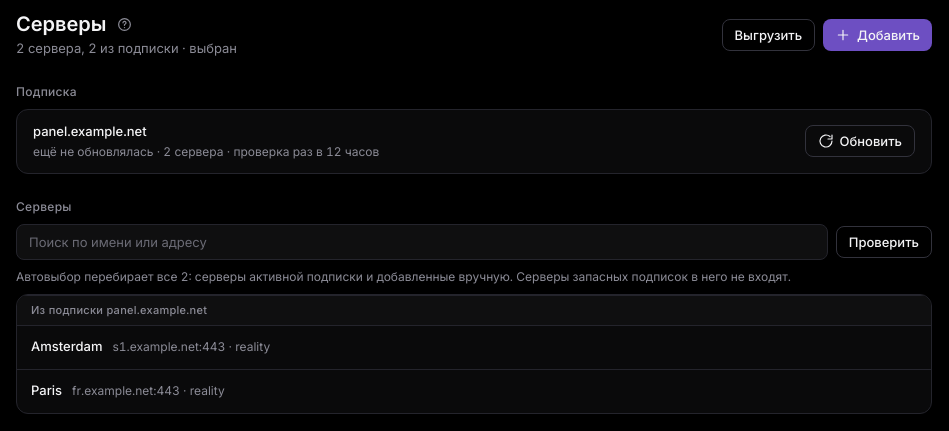
Test: серверы: список › поиск фильтрует по имени и по адресу
The image size is (949, 431).
Type "fr.exa" into the search field with test id "poisk" at (422, 242), box x1=16 y1=224 x2=828 y2=260
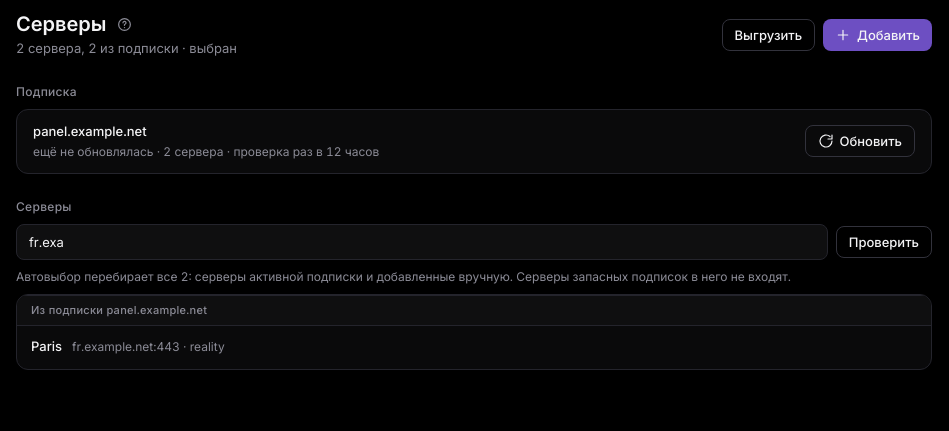
Expected: the option shows "Paris", x1=17 y1=324 x2=931 y2=368
Expected: the number of options is 1, x1=17 y1=324 x2=931 y2=368
